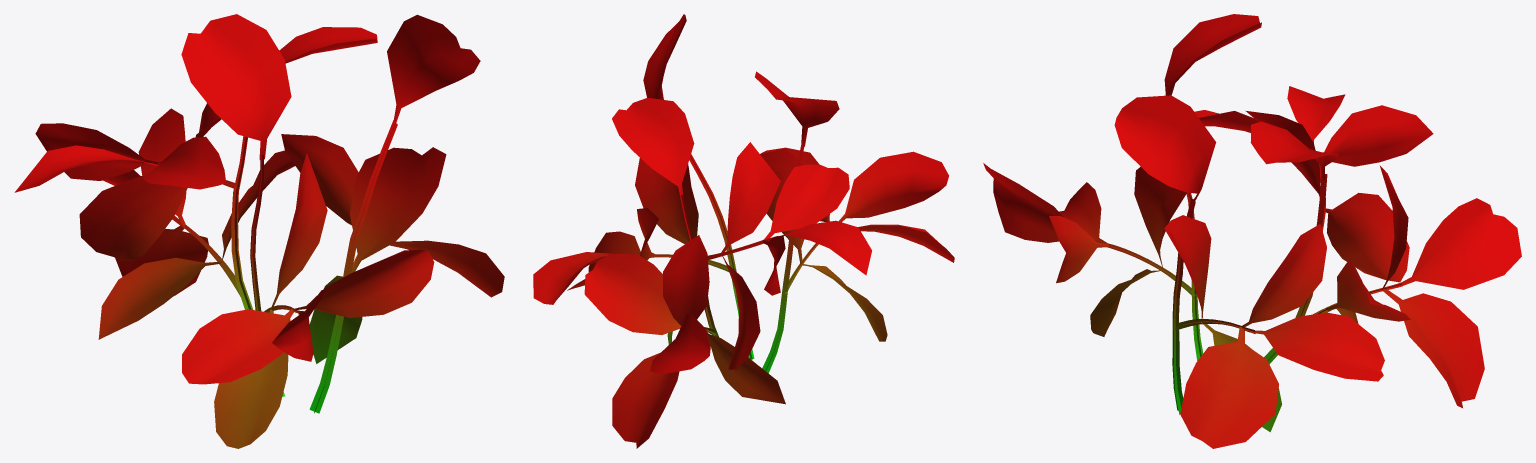
The model's file is Var3_LOD0.fbx.
3 views of the same model, side by side, from view 1: azimuth 30°, elevation 25°; view 2: azimuth 150°, elevation 25°; view 3: azimuth 270°, elevation 25° (orthographic). The views are drawn at different scales.
Visible parts, largest first — view 1: _nvhx_Var3_LOD0; view 2: _nvhx_Var3_LOD0; view 3: _nvhx_Var3_LOD0.
Boxes of the visible parts, x1=… form: _nvhx_Var3_LOD0: x1=14, y1=14, x2=504, y2=448; _nvhx_Var3_LOD0: x1=533, y1=14, x2=954, y2=448; _nvhx_Var3_LOD0: x1=983, y1=14, x2=1521, y2=448.
Size of the model in its own units: 27.86 by 24.54 by 32.56.
